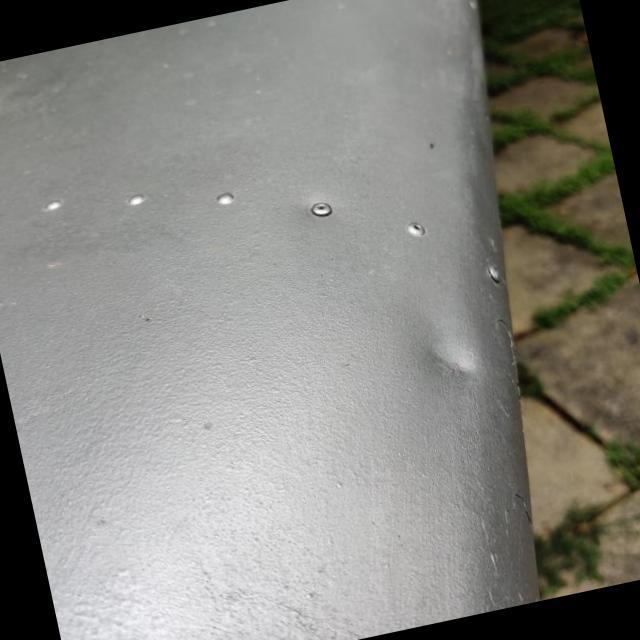Dent: (380, 292, 506, 422)
